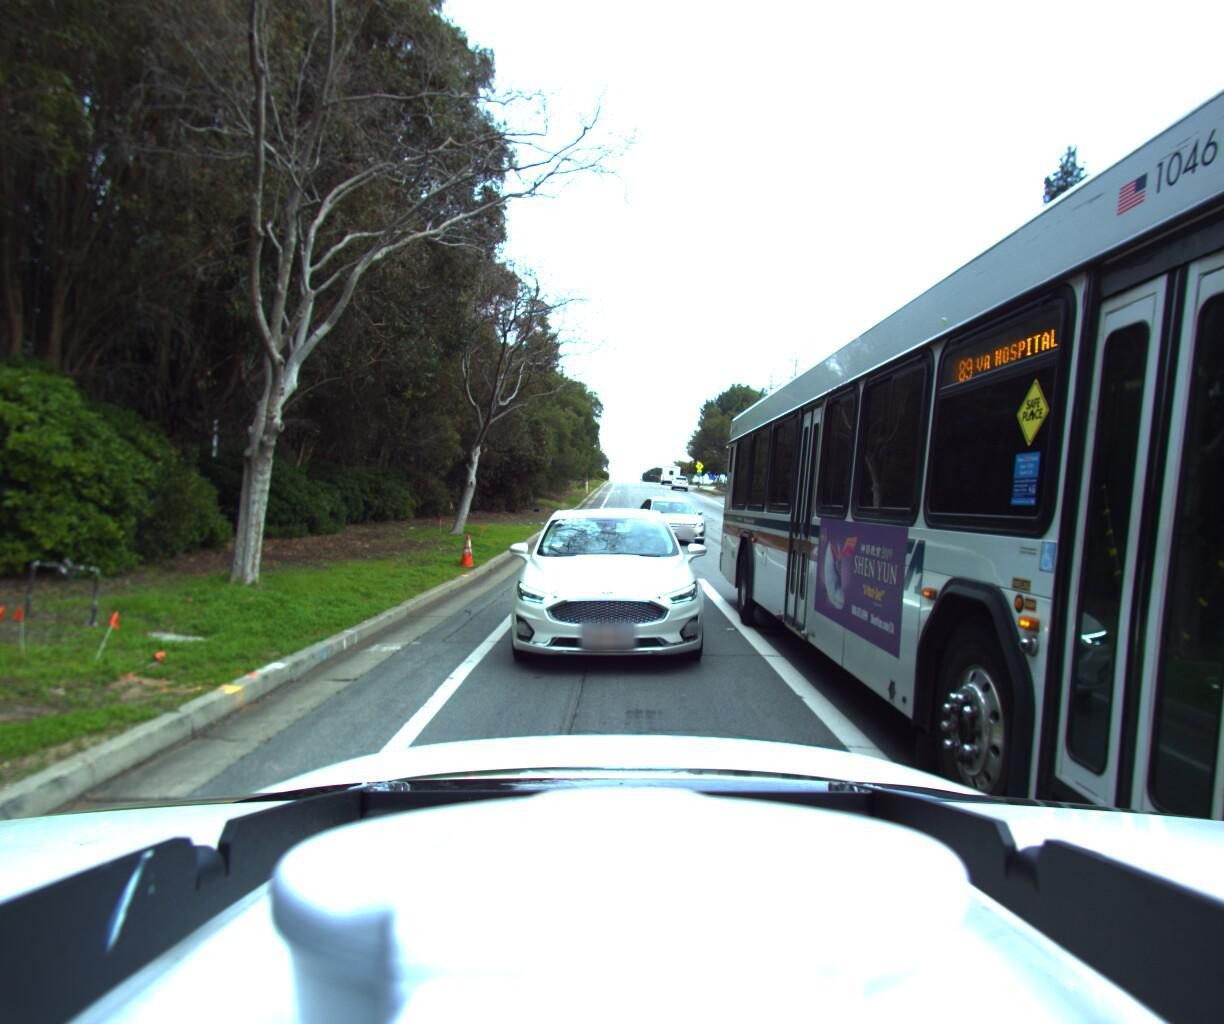bus: (711, 0, 1224, 1024)
car: (484, 492, 726, 687), (629, 493, 718, 548)
